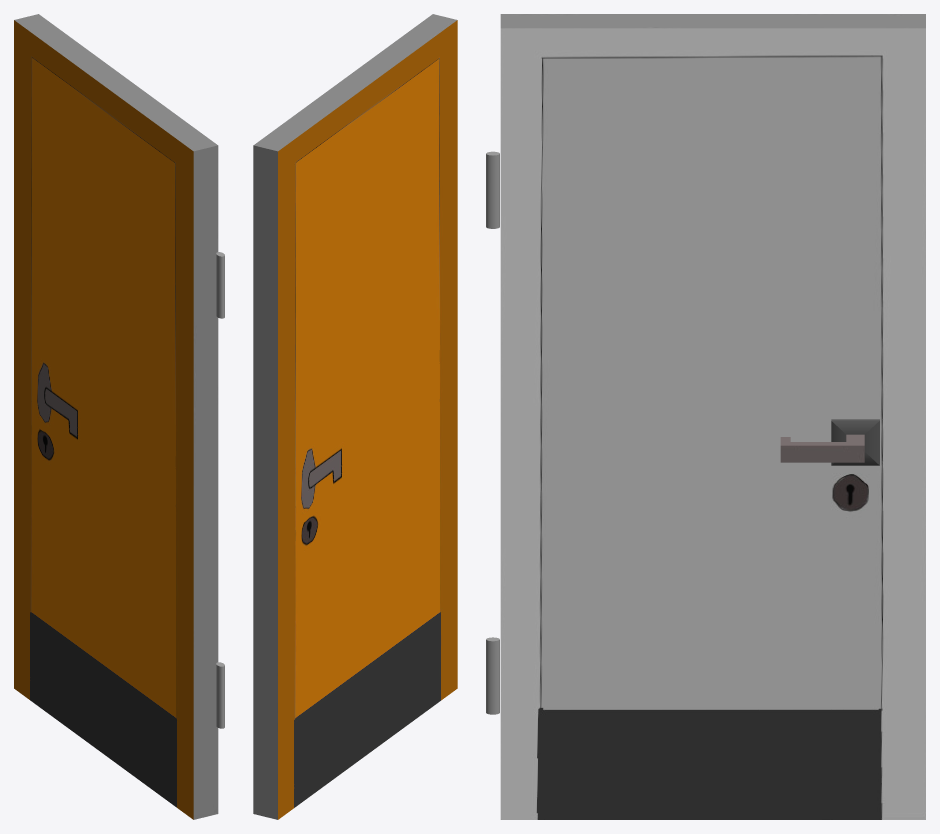
Rendered from Door_try.fbx.
3 renders of one model, left to right at view 1: azimuth 30°, elevation 25°; view 2: azimuth 150°, elevation 25°; view 3: azimuth 270°, elevation 25°, orthographic. The views are drawn at different scales.
Parts seen in each view (by area): view 1: Whole_door; view 2: Whole_door; view 3: Whole_door.
Part boxes in pixels (x1=…): Whole_door: x1=14, y1=14, x2=224, y2=819; Whole_door: x1=253, y1=14, x2=457, y2=819; Whole_door: x1=486, y1=14, x2=925, y2=819.
Bounding box in the file's own units: 19.83 × 278 × 140.
Materials: 2 (1 with a texture image).
